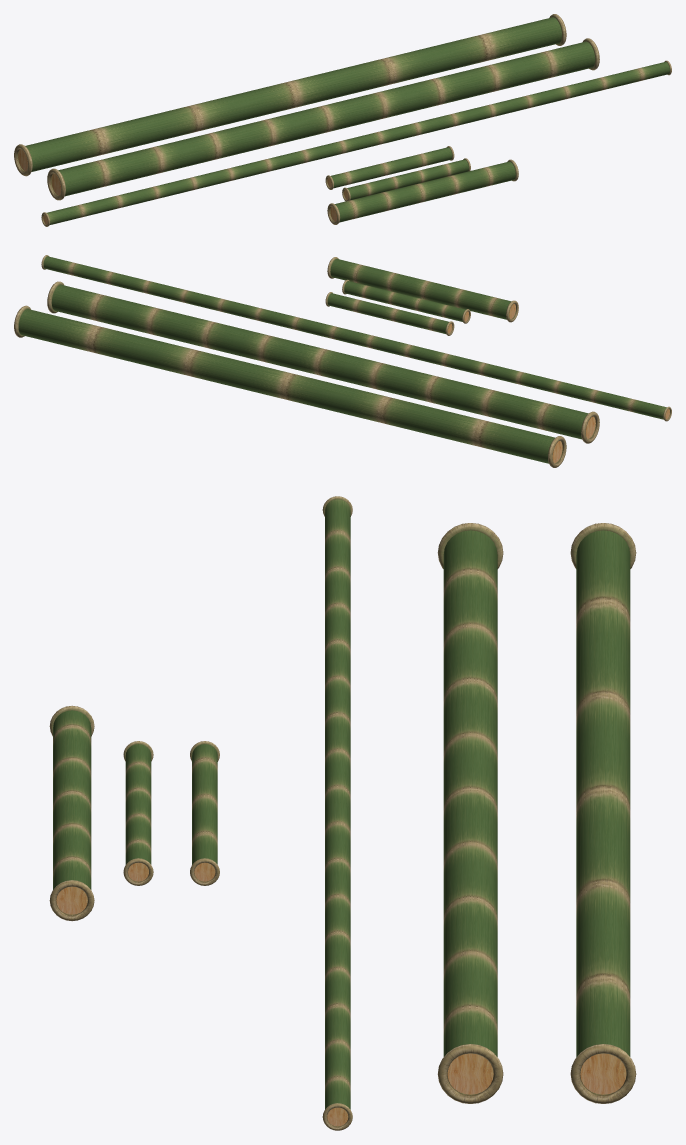
3 renders of one model, top to bottom at view 1: azimuth 30°, elevation 25°; view 2: azimuth 150°, elevation 25°; view 3: azimuth 270°, elevation 25°, orthographic. The views are drawn at different scales.
Visible parts, largest first — view 1: Cylinder ext 1_6, Cylinder ext 5_11, Cylinder ext_1, Cylinder ext 3_26, Cylinder ext 2_16, Cylinder ext 4_21, Torus 1 split 1_32, Torus 1 split 5_34; view 2: Cylinder ext 1_6, Cylinder ext 5_11, Cylinder ext_1, Cylinder ext 3_26, Cylinder ext 2_16, Cylinder ext 4_21, Torus 1 split 1_32, Torus 1 split 5_34; view 3: Cylinder ext 5_11, Cylinder ext 1_6, Cylinder ext_1, Cylinder ext 3_26, Cylinder ext 4_21, Cylinder ext 2_16, Torus 1 split 5_13, Torus 1 split 1_8, Cylinder split 1_9, Cylinder split 5_14.
Boxes of the visible parts, left/top/right/bottom form: Cylinder ext 1_6: left=58, top=41, right=595, bottom=196; Cylinder ext 5_11: left=25, top=17, right=561, bottom=171; Cylinder ext_1: left=47, top=62, right=669, bottom=225; Cylinder ext 3_26: left=335, top=161, right=515, bottom=222; Cylinder ext 2_16: left=331, top=147, right=452, bottom=188; Cylinder ext 4_21: left=347, top=159, right=468, bottom=200; Torus 1 split 1_32: left=47, top=168, right=65, bottom=200; Torus 1 split 5_34: left=14, top=144, right=32, bottom=176; Cylinder ext 1_6: left=51, top=284, right=588, bottom=439; Cylinder ext 5_11: left=18, top=309, right=554, bottom=463; Cylinder ext_1: left=43, top=256, right=666, bottom=419; Cylinder ext 3_26: left=330, top=259, right=511, bottom=319; Cylinder ext 2_16: left=327, top=293, right=448, bottom=333; Cylinder ext 4_21: left=344, top=281, right=465, bottom=321; Torus 1 split 1_32: left=581, top=411, right=599, bottom=443; Torus 1 split 5_34: left=548, top=436, right=566, bottom=467; Cylinder ext 5_11: left=576, top=530, right=630, bottom=1056; Cylinder ext 1_6: left=443, top=530, right=497, bottom=1056; Cylinder ext_1: left=325, top=499, right=350, bottom=1109; Cylinder ext 3_26: left=53, top=710, right=91, bottom=889; Cylinder ext 4_21: left=125, top=744, right=151, bottom=864; Cylinder ext 2_16: left=192, top=744, right=217, bottom=864; Torus 1 split 5_13: left=570, top=1044, right=636, bottom=1103; Torus 1 split 1_8: left=437, top=1044, right=503, bottom=1103; Cylinder split 1_9: left=447, top=1053, right=493, bottom=1094; Cylinder split 5_14: left=580, top=1053, right=626, bottom=1094.
Bounding box in the file's own units: 54.23 × 2.47 × 22.08.
18 materials, 18 textured.
